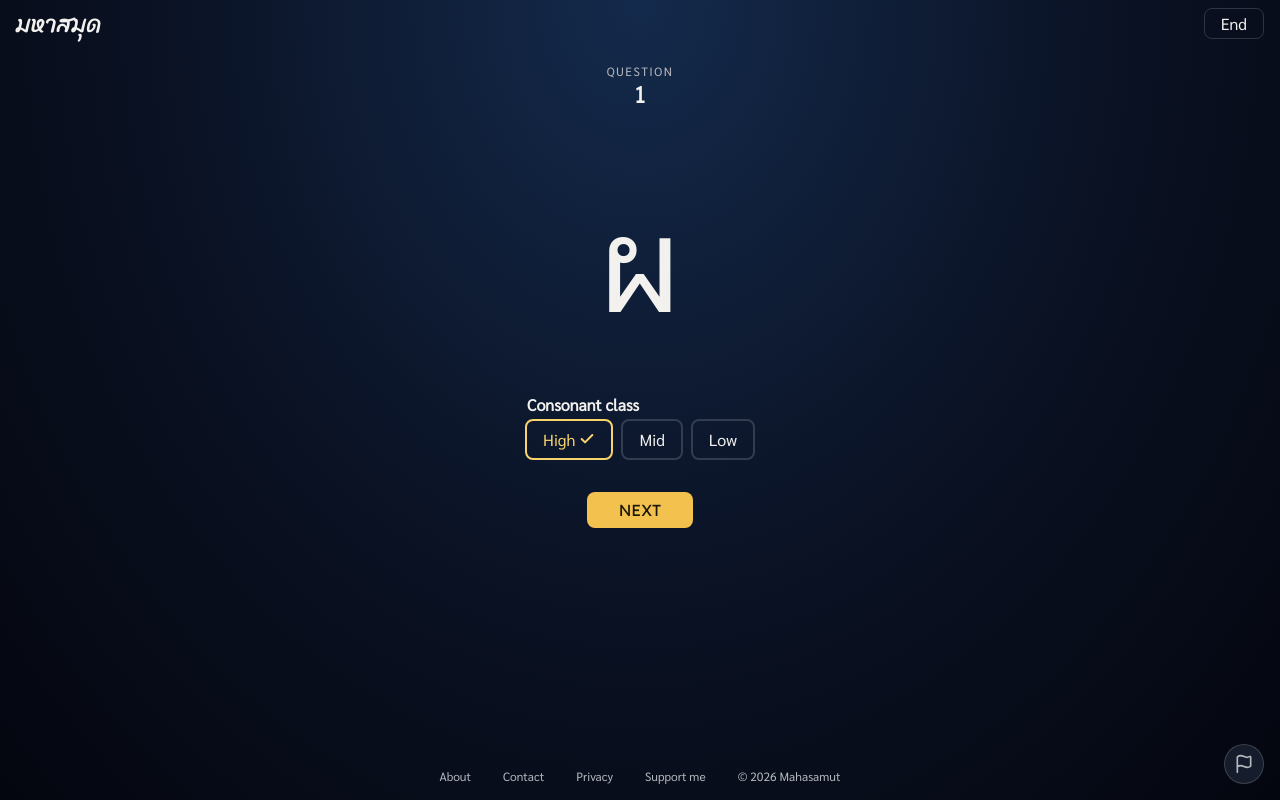
it: leaving a game from the bar › asks once a question is lost to the time
Click the link named "Mahasamut". click: (59, 24)
box: 16,8 -> 101,38
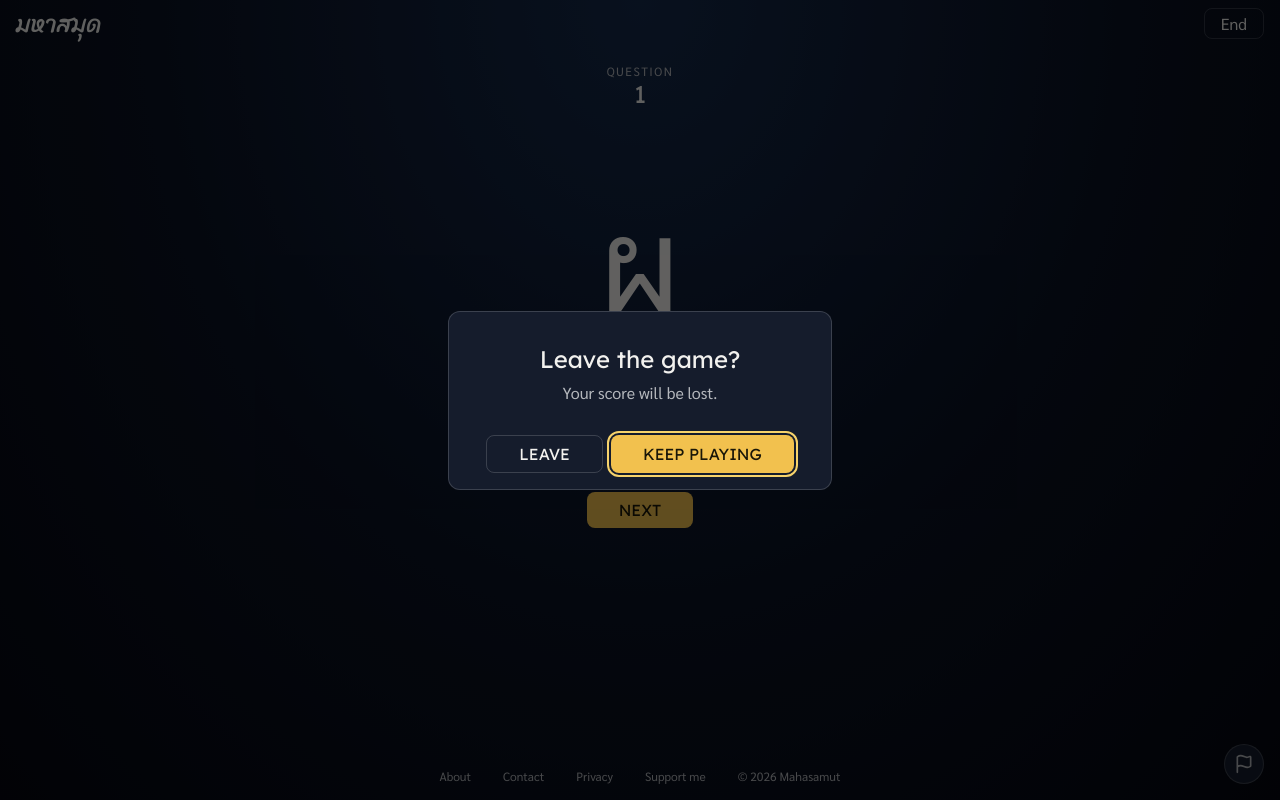
Check: the dialog "Leave the game?" is shown, box 448,310 -> 832,490
